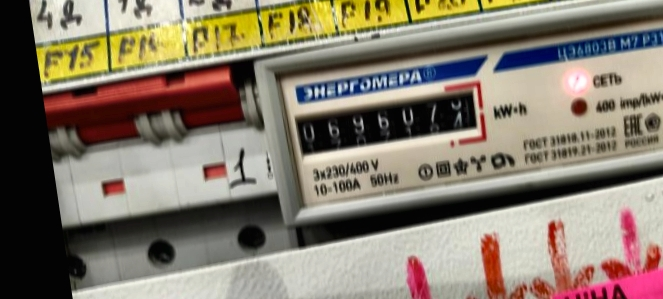0: (396, 101, 414, 125), (298, 119, 315, 142)
4: (448, 107, 464, 130)
6: (372, 107, 389, 129), (323, 114, 339, 137)
7: (421, 100, 439, 123)
9: (347, 111, 363, 133)
screen: (279, 77, 491, 165)
